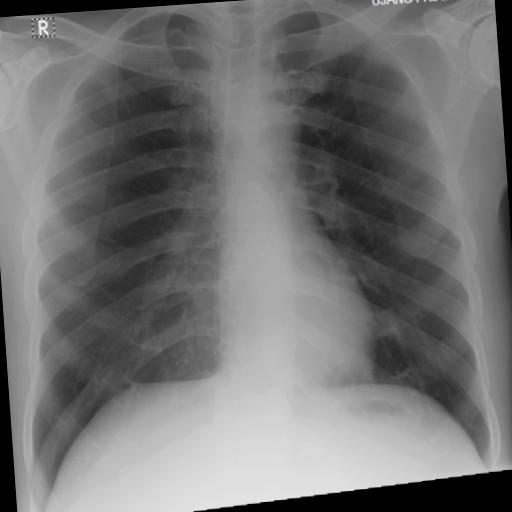normal: (0, 0, 503, 501)
